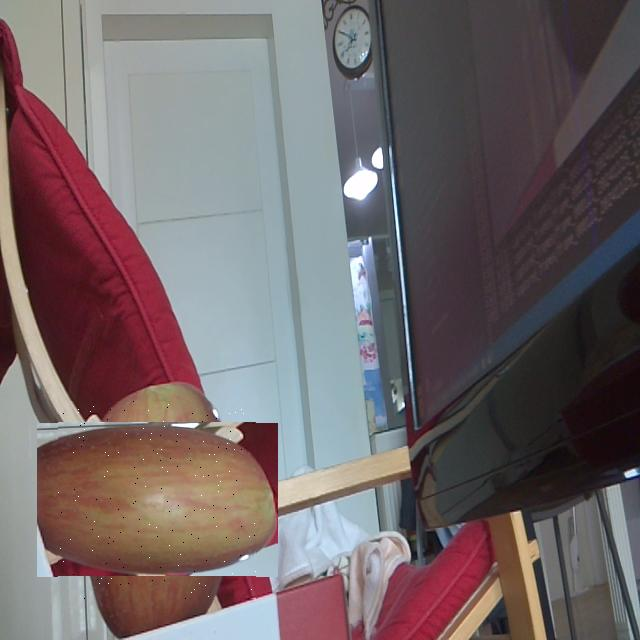apple: (58, 402, 256, 600)
